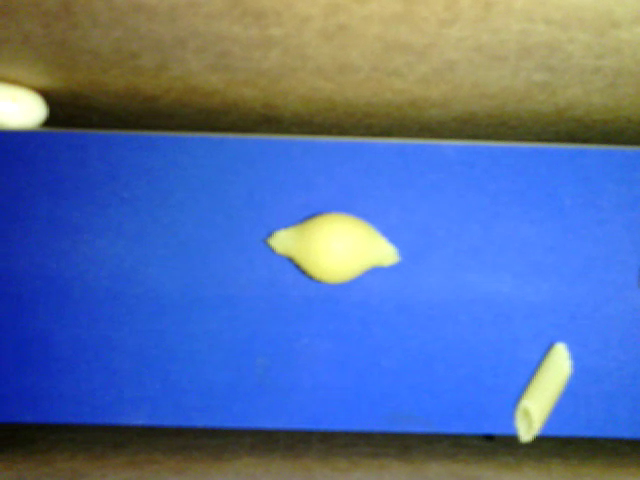penne: (514, 340, 574, 443)
shell: (268, 213, 405, 284)
